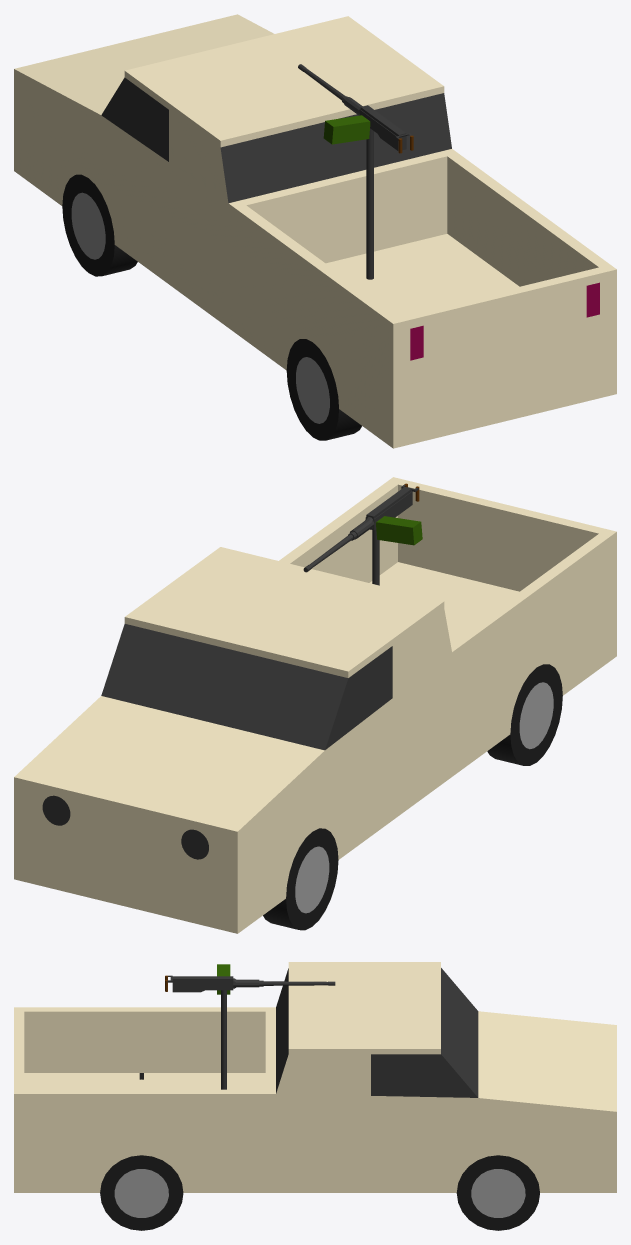
The model's file is pickup.obj.
3 renders of one model, top to bottom at view 1: azimuth 30°, elevation 25°; view 2: azimuth 150°, elevation 25°; view 3: azimuth 270°, elevation 25°, orthographic. The views are drawn at different scales.
Parts seen in each view (by area): view 1: instance_0.001_ID12, instance_0.002_ID20, instance_0.003_ID26, instance_0_ID4, instance_1_ID61, instance_2_ID78, instance_1.001_ID69, instance_2.001_ID84, instance_9_ID153, instance_10_ID160, instance_7_ID137; view 2: instance_0.001_ID12, instance_0_ID4, instance_0.002_ID20, instance_1_ID61, instance_2_ID78, instance_1.001_ID69, instance_2.001_ID84, instance_10_ID160, instance_7_ID137, instance_0.004_ID32, instance_0.005_ID40; view 3: instance_0.001_ID12, instance_0.002_ID20, instance_0_ID4, instance_3_ID91, instance_4_ID104, instance_3.001_ID97, instance_4.001_ID110, instance_0.003_ID26, instance_7_ID137, instance_9_ID153.
Part boxes in pixels (<box>): instance_0.001_ID12: <box>14,14,616,448</box>; instance_0.002_ID20: <box>246,156,598,316</box>; instance_0.003_ID26: <box>220,93,451,203</box>; instance_0_ID4: <box>101,77,168,161</box>; instance_1_ID61: <box>62,174,137,276</box>; instance_2_ID78: <box>286,339,361,440</box>; instance_1.001_ID69: <box>71,192,105,259</box>; instance_2.001_ID84: <box>296,357,329,423</box>; instance_9_ID153: <box>366,128,373,279</box>; instance_10_ID160: <box>323,115,370,144</box>; instance_7_ID137: <box>360,105,406,151</box>; instance_0.001_ID12: <box>14,477,616,933</box>; instance_0_ID4: <box>101,624,392,750</box>; instance_0.002_ID20: <box>290,484,598,642</box>; instance_1_ID61: <box>263,828,338,930</box>; instance_2_ID78: <box>487,664,562,765</box>; instance_1.001_ID69: <box>295,846,329,913</box>; instance_2.001_ID84: <box>519,682,553,749</box>; instance_10_ID160: <box>376,516,422,545</box>; instance_7_ID137: <box>365,487,412,530</box>; instance_0.004_ID32: <box>42,795,70,825</box>; instance_0.005_ID40: <box>181,829,208,859</box>; instance_0.001_ID12: <box>14,962,616,1192</box>; instance_0.002_ID20: <box>24,1011,265,1089</box>; instance_0_ID4: <box>371,968,478,1097</box>; instance_3_ID91: <box>100,1155,183,1230</box>; instance_4_ID104: <box>456,1155,539,1230</box>; instance_3.001_ID97: <box>114,1169,168,1217</box>; instance_4.001_ID110: <box>471,1169,525,1217</box>; instance_0.003_ID26: <box>276,968,288,1093</box>; instance_7_ID137: <box>172,976,233,992</box>; instance_9_ID153: <box>221,990,226,1089</box>.
Bounding box in the file's own units: 2.01 × 2.25 × 5.89.
